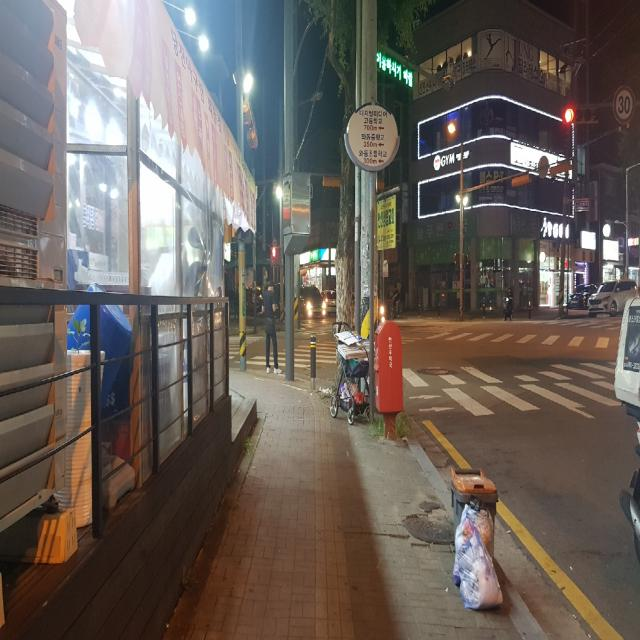빨간불: (272, 248, 276, 266)
횡단보도: (412, 369, 612, 414), (436, 331, 605, 348), (229, 336, 263, 360), (296, 345, 308, 370), (321, 343, 332, 363)
